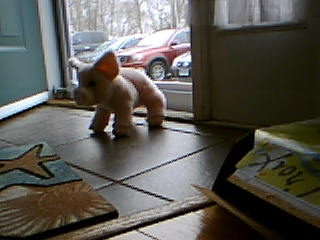piggy: (67, 48, 169, 142)
